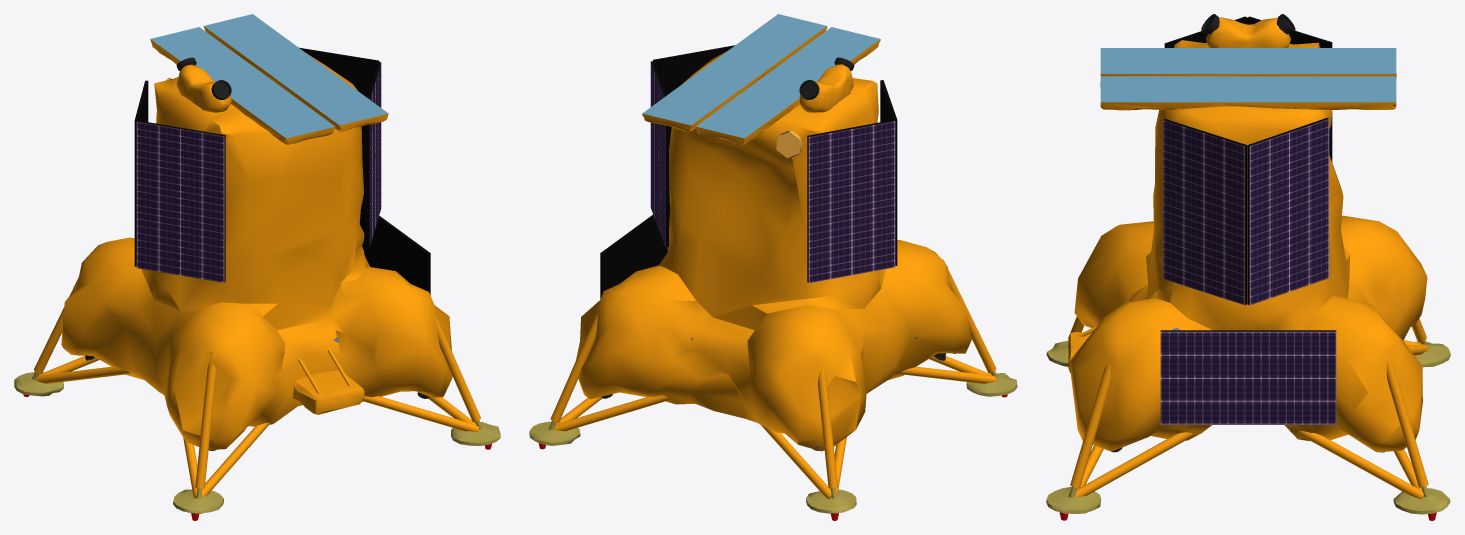
3 views of the same model, side by side, from view 1: azimuth 30°, elevation 25°; view 2: azimuth 150°, elevation 25°; view 3: azimuth 270°, elevation 25° (orthographic). The views are drawn at different scales.
Parts seen in each view (by area): view 1: Retopo_Luna25.Foil.Bottom, Retopo_Luna25.Foil.Top, Luna25.Sunbatt.001, object 4, object 5, Luna25.Foot.Pad.002, Luna25.Foot.Pad.003, Luna25.Sunbatt.004, Luna25.Foot.Pad.001, Luna25.Sens.Doppler, Luna25.Sunbatt.002, Luna25.Sunbatt.003 (+2 smaller); view 2: Retopo_Luna25.Foil.Bottom, Retopo_Luna25.Foil.Top, Luna25.Sunbatt, object 4, object 5, Luna25.Foot.Pad.004, Luna25.Foot.Pad.001, Luna25.Sunbatt.004, Luna25.Foot.Pad.002, Luna25.Sunbatt.003, Luna25.Sunbatt.002, Luna25.Sens.Star.Foil (+2 smaller); view 3: Retopo_Luna25.Foil.Bottom, Luna25.Sunbatt.004, Retopo_Luna25.Foil.Top, Luna25.Sunbatt.002, Luna25.Sunbatt.003, object 4, object 5, Luna25.Foot.Pad.004, Luna25.Foot.Pad.003, Luna25.Sens.Star.Foil, Luna25.Foot.Pad.001, Luna25.Sunbatt (+2 smaller).
Boxes of the visible parts, x1=… form: Retopo_Luna25.Foil.Bottom: x1=61, y1=237, x2=452, y2=449; Retopo_Luna25.Foil.Top: x1=141, y1=54, x2=369, y2=310; Luna25.Sunbatt.001: x1=136, y1=120, x2=225, y2=282; object 4: x1=203, y1=14, x2=388, y2=131; object 5: x1=150, y1=27, x2=335, y2=144; Luna25.Foot.Pad.002: x1=173, y1=352, x2=270, y2=520; Luna25.Foot.Pad.003: x1=362, y1=314, x2=500, y2=449; Luna25.Sunbatt.004: x1=359, y1=205, x2=430, y2=294; Luna25.Foot.Pad.001: x1=14, y1=278, x2=130, y2=396; Luna25.Sens.Doppler: x1=293, y1=348, x2=364, y2=414; Luna25.Sunbatt.002: x1=366, y1=62, x2=381, y2=247; Luna25.Sunbatt.003: x1=299, y1=47, x2=379, y2=206; Retopo_Luna25.Foil.Bottom: x1=576, y1=240, x2=971, y2=451; Retopo_Luna25.Foil.Top: x1=659, y1=51, x2=886, y2=317; Luna25.Sunbatt: x1=807, y1=120, x2=895, y2=283; object 4: x1=642, y1=14, x2=827, y2=131; object 5: x1=695, y1=27, x2=880, y2=144; Luna25.Foot.Pad.004: x1=529, y1=312, x2=669, y2=449; Luna25.Foot.Pad.001: x1=761, y1=369, x2=856, y2=520; Luna25.Sunbatt.004: x1=600, y1=204, x2=669, y2=298; Luna25.Foot.Pad.002: x1=899, y1=259, x2=1017, y2=397; Luna25.Sunbatt.003: x1=650, y1=61, x2=668, y2=246; Luna25.Sunbatt.002: x1=653, y1=45, x2=735, y2=204; Luna25.Sens.Star.Foil: x1=799, y1=64, x2=853, y2=112; Retopo_Luna25.Foil.Bottom: x1=1070, y1=215, x2=1427, y2=452; Luna25.Sunbatt.004: x1=1160, y1=330, x2=1336, y2=424; Retopo_Luna25.Foil.Top: x1=1149, y1=40, x2=1347, y2=330; Luna25.Sunbatt.002: x1=1163, y1=119, x2=1246, y2=305; Luna25.Sunbatt.003: x1=1247, y1=118, x2=1329, y2=305; object 4: x1=1100, y1=76, x2=1396, y2=110; object 5: x1=1100, y1=48, x2=1396, y2=77; Luna25.Foot.Pad.004: x1=1299, y1=358, x2=1450, y2=520; Luna25.Foot.Pad.003: x1=1046, y1=363, x2=1194, y2=520; Luna25.Sens.Star.Foil: x1=1206, y1=17, x2=1290, y2=47; Luna25.Foot.Pad.001: x1=1403, y1=318, x2=1450, y2=367; Luna25.Sunbatt: x1=1247, y1=16, x2=1332, y2=161.
Bounding box in the file's own units: 2.74 × 2.97 × 2.74.
2 materials, 2 textured.
